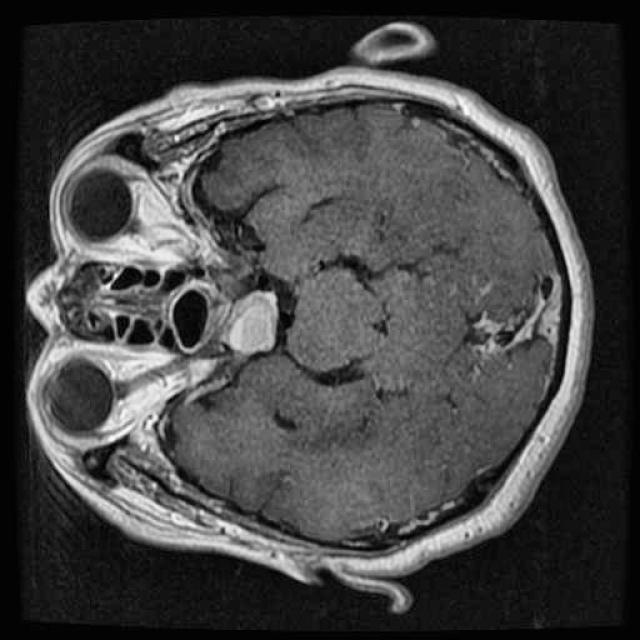Tumor: (214, 270, 291, 361)
